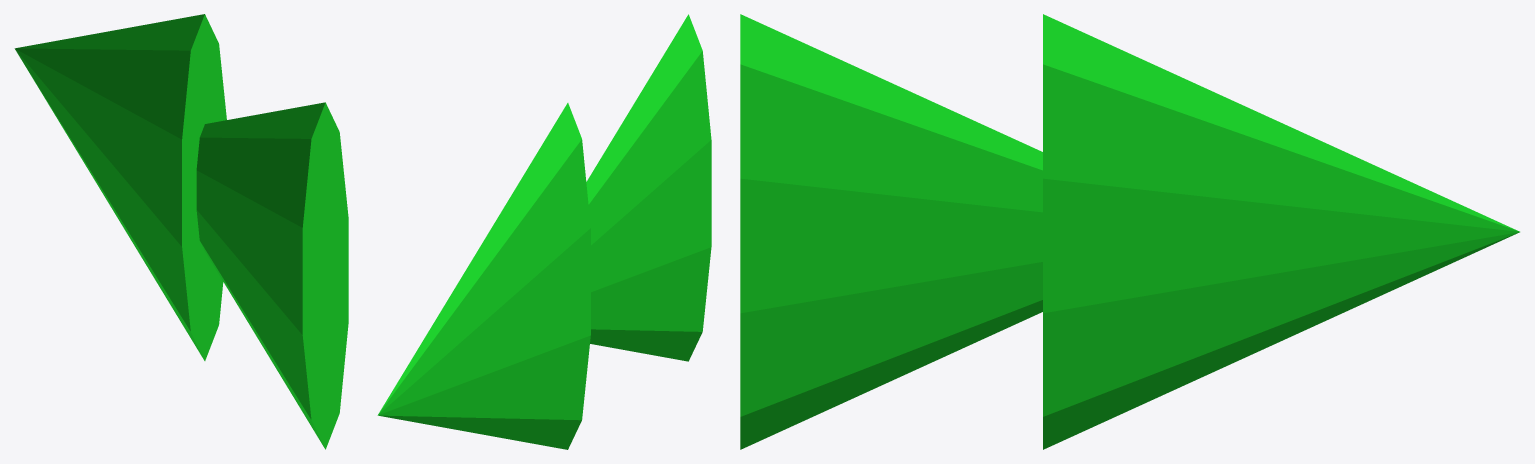
Rendered from flechitaverde.fbx.
3 renders of one model, left to right at view 1: azimuth 30°, elevation 25°; view 2: azimuth 150°, elevation 25°; view 3: azimuth 270°, elevation 25°, orthographic. The views are drawn at different scales.
Parts seen in each view (by area): view 1: Cone; view 2: Cone; view 3: Cone.
Part boxes in pixels (box(x1,y1,x2,y2)): Cone: box(14, 14, 348, 449); Cone: box(377, 14, 711, 449); Cone: box(740, 14, 1519, 449).
Bounding box in the file's own units: 39.74 × 289 × 468.
